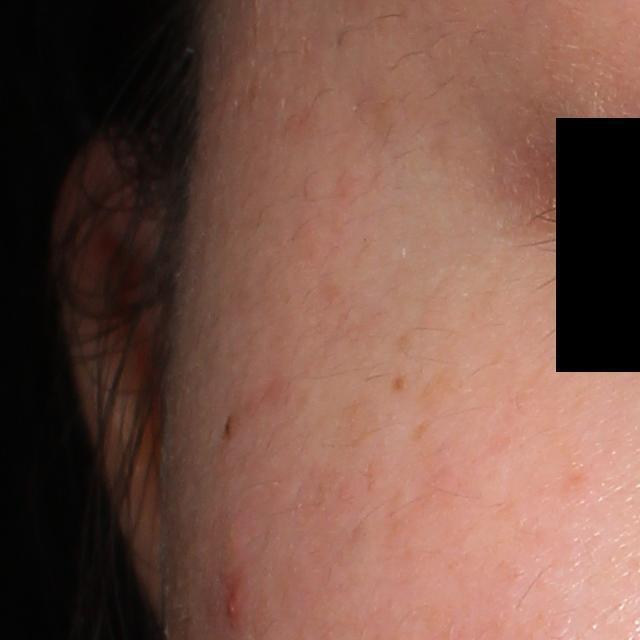melasma: (412, 365, 465, 441), (391, 371, 412, 393)
nevus: (222, 413, 234, 440)
papule: (223, 577, 245, 622)
